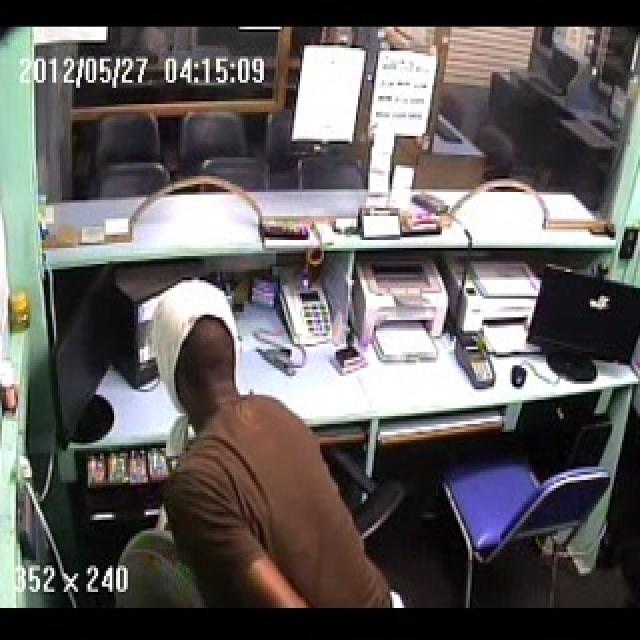thief: (115, 278, 444, 607)
